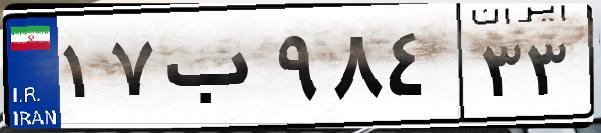1: (57, 26, 110, 100)
3: (475, 38, 525, 113), (525, 38, 570, 115)
4: (385, 28, 445, 110)
7: (110, 28, 158, 98)
8: (330, 28, 385, 110)
9: (270, 28, 330, 110)
ب: (158, 20, 270, 120)
